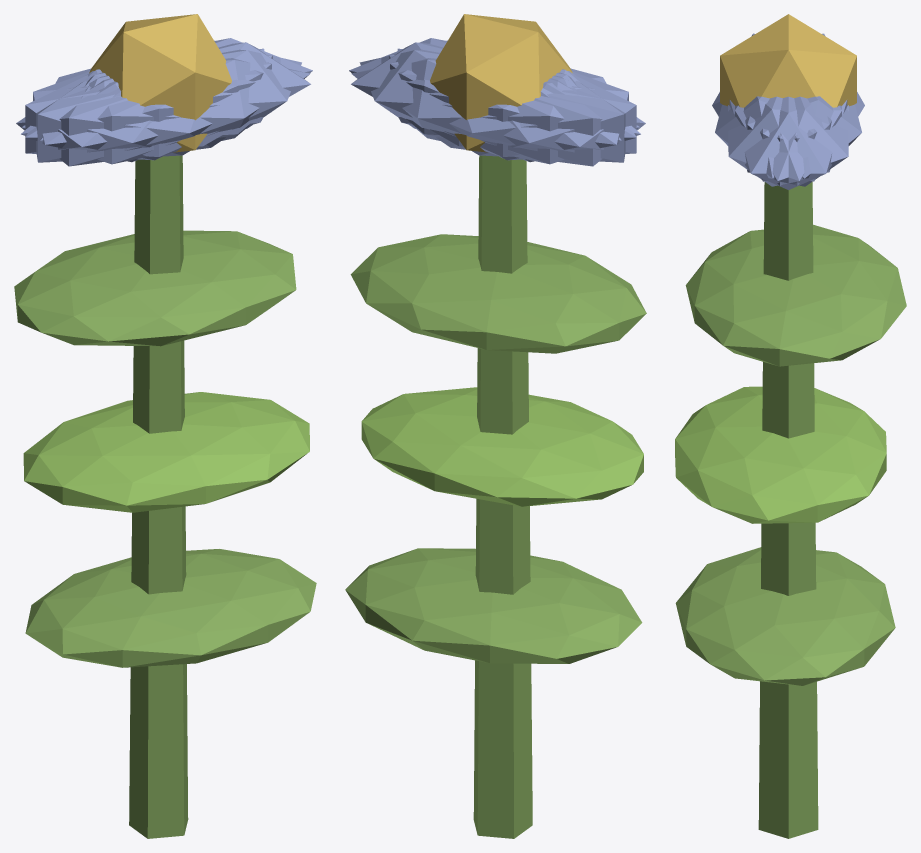
File: annona-squamosa.glb
3 views of the same model, side by side, from view 1: azimuth 30°, elevation 25°; view 2: azimuth 150°, elevation 25°; view 3: azimuth 270°, elevation 25° (orthographic).
Parts seen in each view (by area): view 1: stem, leaf1, leaf0, leaf2, center, petal1, petal6, petal2, petal5, petal7, petal0, petal4 (+2 smaller); view 2: stem, leaf2, leaf0, leaf1, center, petal8, petal3, petal7, petal4, petal2, petal0, petal5 (+2 smaller); view 3: leaf2, leaf0, leaf1, stem, center, petal0, petal4, petal5, petal1, petal8.
Boxes of the visible parts, <box> form: stem: <box>129,155,188,838</box>; leaf1: <box>23,392,309,512</box>; leaf0: <box>25,549,316,667</box>; leaf2: <box>14,230,296,346</box>; center: <box>89,14,231,152</box>; petal1: <box>21,58,310,164</box>; petal6: <box>16,71,225,166</box>; petal2: <box>36,48,264,162</box>; petal5: <box>40,49,301,156</box>; petal7: <box>25,55,272,160</box>; petal0: <box>89,42,310,146</box>; petal4: <box>22,38,312,137</box>; stem: <box>473,155,532,838</box>; leaf2: <box>350,234,646,353</box>; leaf0: <box>345,548,642,663</box>; leaf1: <box>361,387,643,506</box>; center: <box>430,14,572,152</box>; petal8: <box>351,58,640,164</box>; petal3: <box>436,71,645,166</box>; petal7: <box>397,48,625,162</box>; petal4: <box>359,49,621,156</box>; petal2: <box>389,55,636,160</box>; petal0: <box>351,42,572,146</box>; petal5: <box>349,38,639,137</box>; leaf2: <box>685,224,906,366</box>; leaf0: <box>675,547,895,685</box>; leaf1: <box>675,386,886,523</box>; stem: <box>758,182,818,838</box>; center: <box>720,14,856,107</box>; petal0: <box>729,96,847,189</box>; petal4: <box>735,96,848,186</box>; petal5: <box>728,96,841,186</box>; petal1: <box>715,96,831,178</box>; petal8: <box>745,96,861,178</box>.
Bounding box in the file's own units: 0.1452 × 0.3911 × 0.1035.
